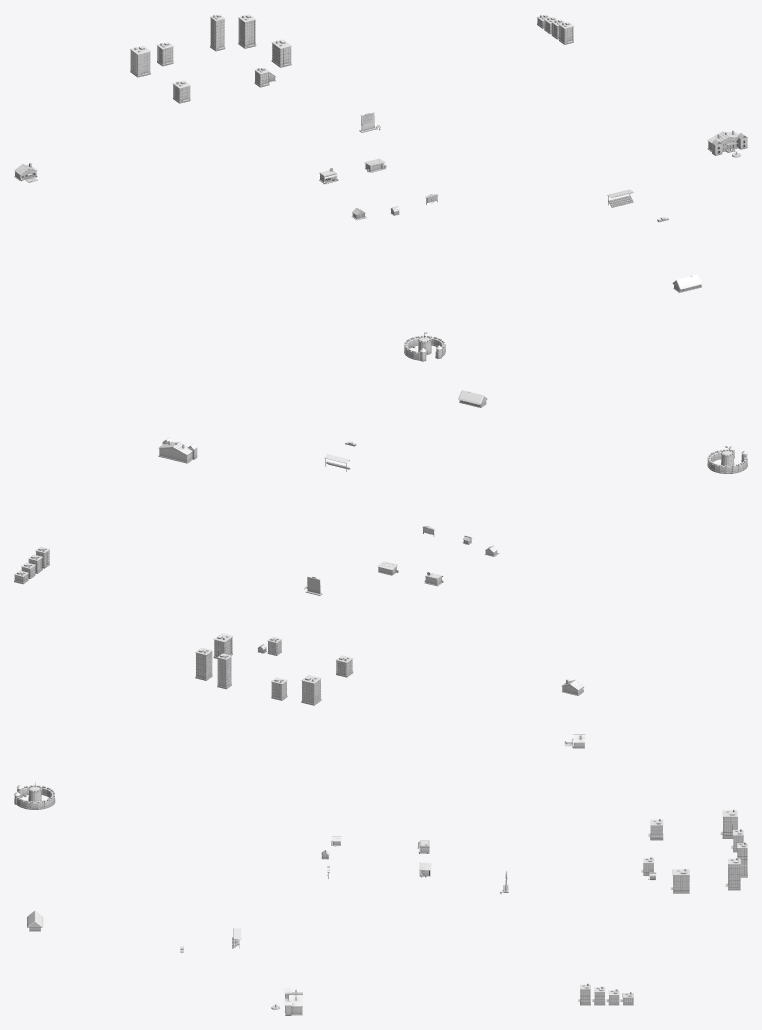
Rendered from bake.glb.
3 views of the same model, one above another, from view 1: azimuth 30°, elevation 25°; view 2: azimuth 150°, elevation 25°; view 3: azimuth 270°, elevation 25° (orthographic). The views are drawn at different scales.
Parts seen in each view (by area): view 1: bk_thorne0, bk_manor0, bk_office0, bk_office4; view 2: bk_thorne0, bk_manor0, bk_office0, bk_office4; view 3: bk_thorne0, bk_manor0.
Part boxes in pixels (<box>): bk_thorne0: <box>404,332,445,361</box>; bk_manor0: <box>707,130,747,157</box>; bk_office0: <box>130,45,150,77</box>; bk_office4: <box>238,14,256,48</box>; bk_thorne0: <box>707,446,747,473</box>; bk_manor0: <box>158,437,197,463</box>; bk_office0: <box>301,675,321,705</box>; bk_office4: <box>195,647,212,680</box>; bk_thorne0: <box>14,782,55,809</box>; bk_manor0: <box>271,988,302,1015</box>.
Bounding box in the file's own units: 320 × 17.3 × 360.
24 materials, 24 textured.
